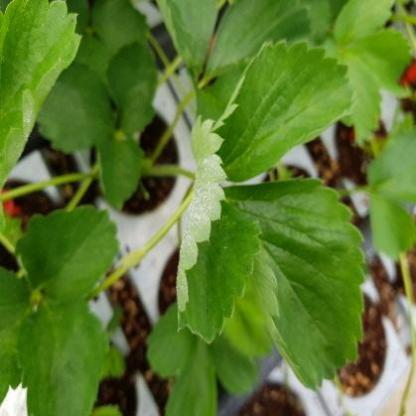Strawberry_Powdery_Mildew_Leaf: (176, 115, 262, 344)
